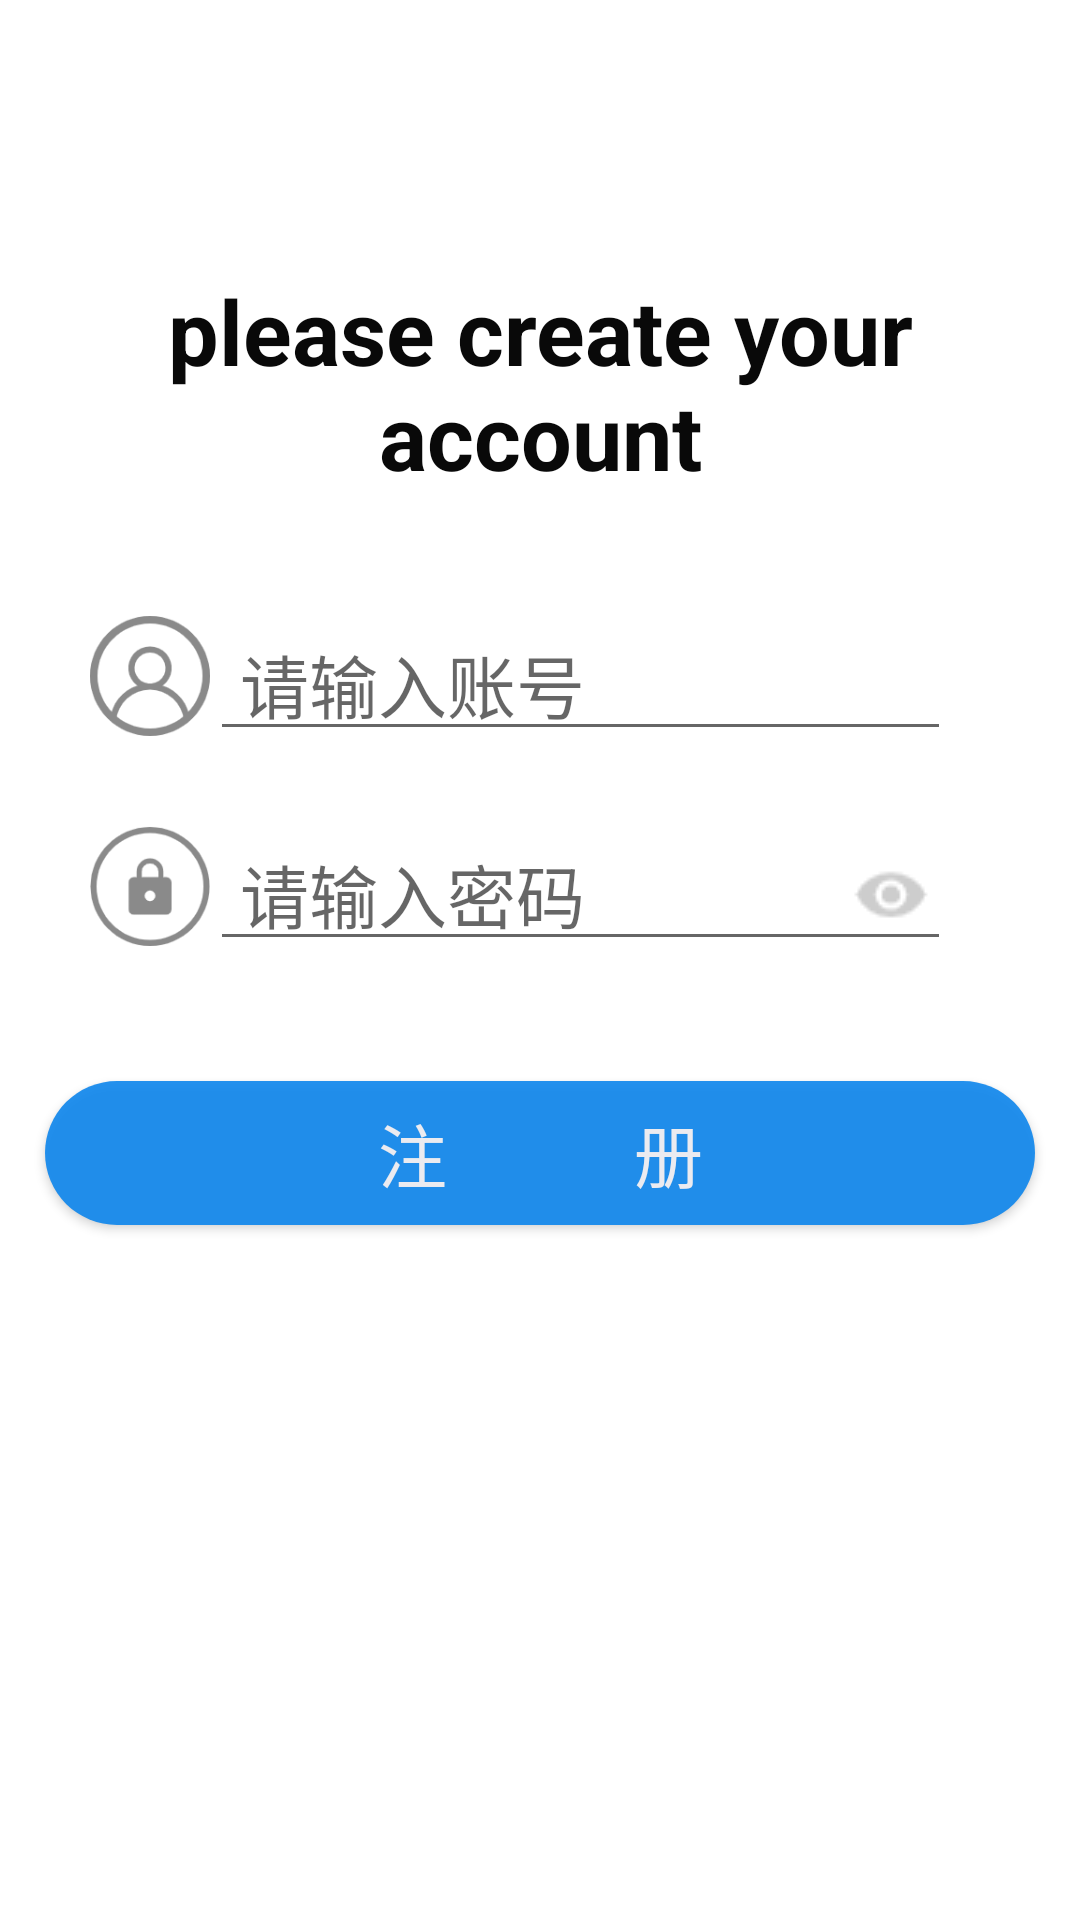

Screen size 1080 × 1920. Icon name, then its box in pixels as (x1, y1, x2, y2):
username: (90, 616, 210, 736)
